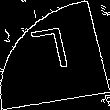L_S: (31, 27, 79, 83)
